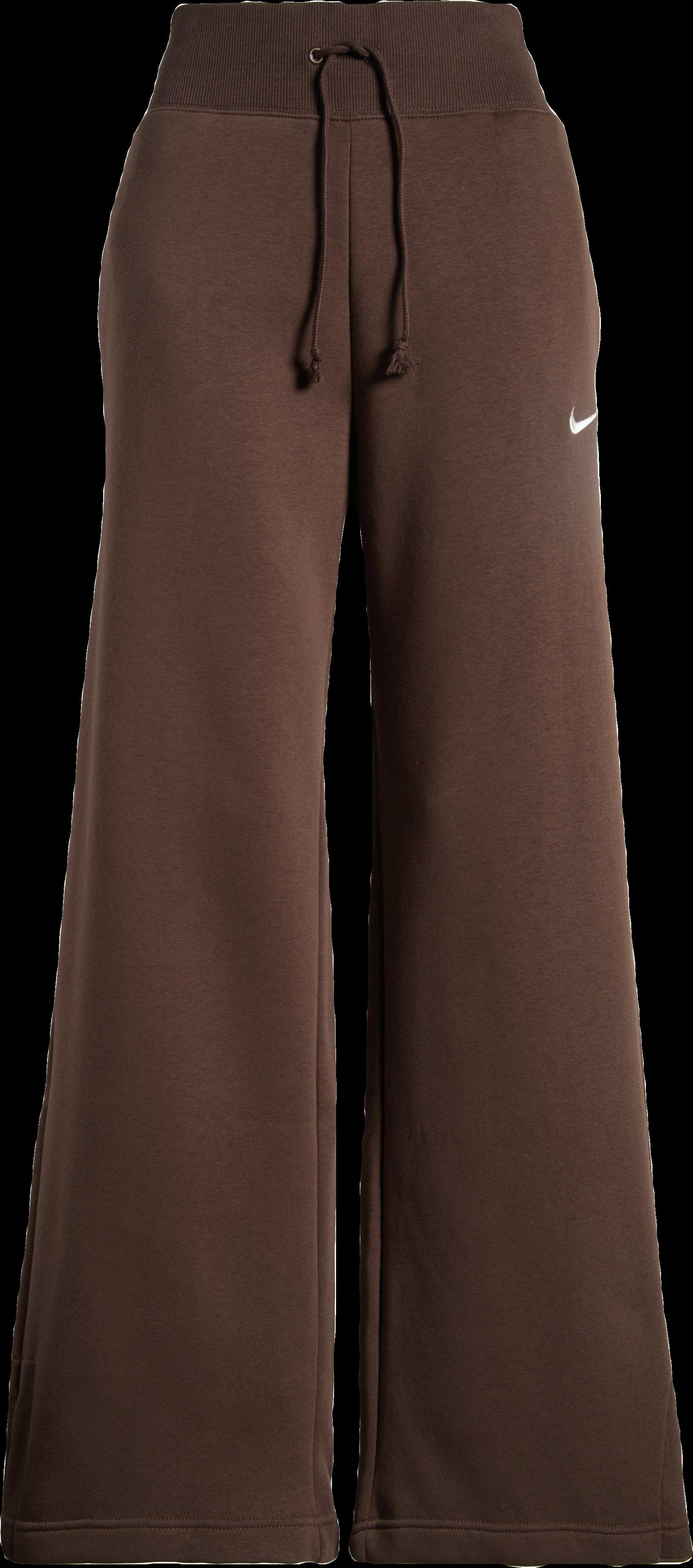Hemline: (0, 1543, 345, 1568), (350, 1543, 693, 1568)
Pantleg: (336, 0, 692, 1568), (1, 0, 348, 1565)
Waistline: (141, 92, 551, 123), (172, 0, 520, 18)
